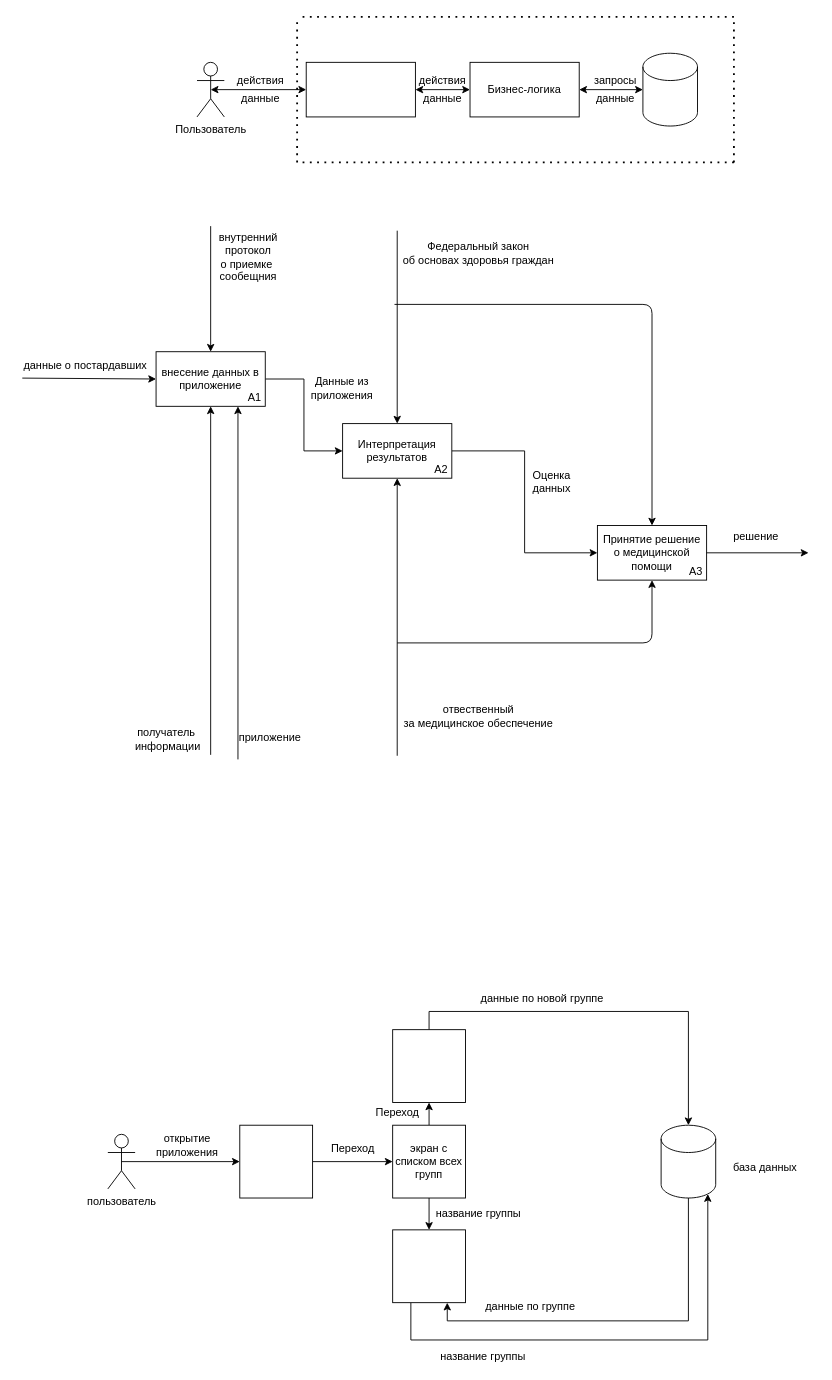
Image size: 832x1380. Some labels were removed from this diagram. The centre of each missing label's shape, as x and y in pixels:
входной экран: [276,1161]
Интерфейс: [360,89]
экран с добавлением новой группы: [428,1065]
экран с информацией о конкретной группе: [428,1266]
